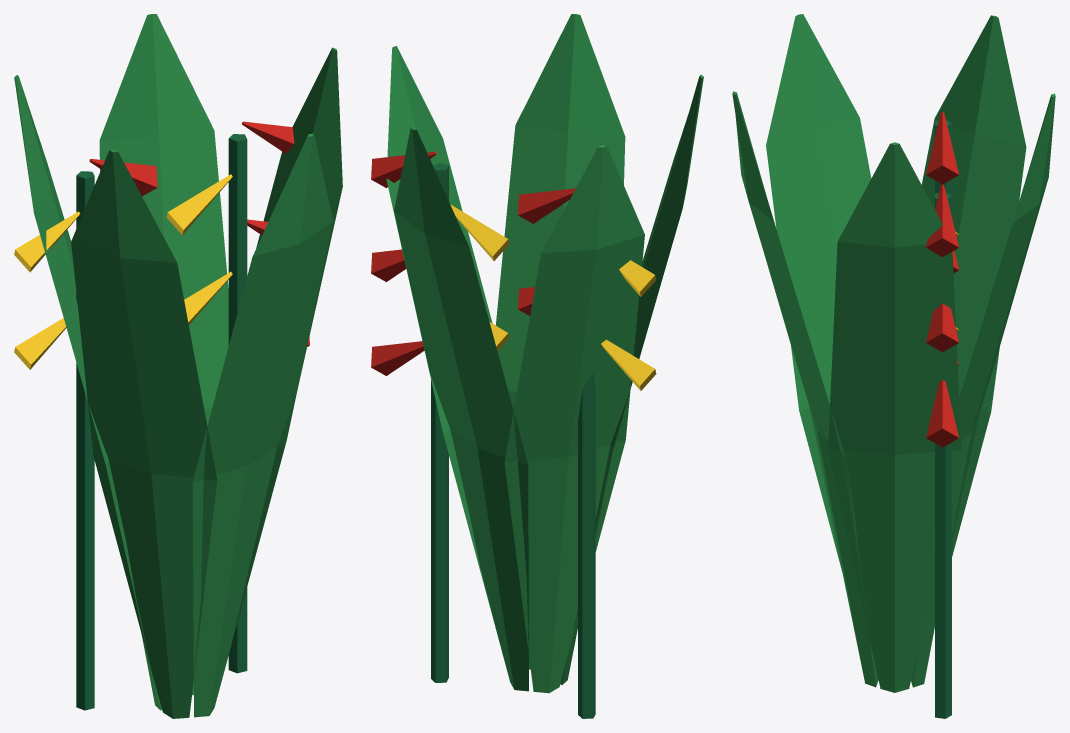
Rendered from Heliconia.fbx.
3 views of the same model, side by side, from view 1: azimuth 30°, elevation 25°; view 2: azimuth 150°, elevation 25°; view 3: azimuth 270°, elevation 25° (orthographic). The views are drawn at different scales.
Visible parts, largest first — view 1: Heliconia; view 2: Heliconia; view 3: Heliconia.
Boxes of the visible parts, x1,y1,x2,y2 form: Heliconia: (14,14,342,718); Heliconia: (371,14,703,718); Heliconia: (732,14,1055,718).
Bounding box in the file's own units: 0.7017 × 1.4 × 0.6771.
